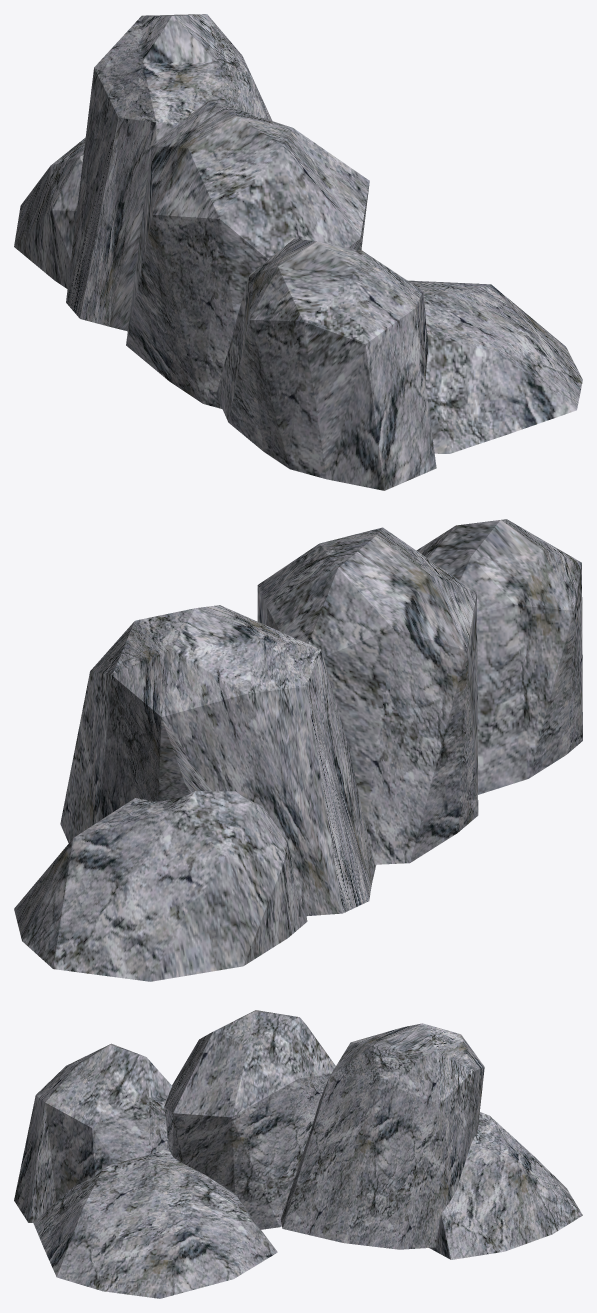
The model's file is des_rockgp2_05.obj.
The picture shows the model from 3 angles, top to bottom: view 1: azimuth 30°, elevation 25°; view 2: azimuth 150°, elevation 25°; view 3: azimuth 270°, elevation 25°; orthographic projection. The views are drawn at different scales.
Visible parts, largest first — view 1: des_rockgp2_05; view 2: des_rockgp2_05; view 3: des_rockgp2_05.
Part boxes in pixels (box(x1,y1,x2,y2)): des_rockgp2_05: box(14, 14, 582, 490); des_rockgp2_05: box(14, 519, 582, 981); des_rockgp2_05: box(14, 1010, 582, 1298).
Bounding box in the file's own units: 32.38 × 23.44 × 60.41.
Materials: 2 (2 with a texture image).
